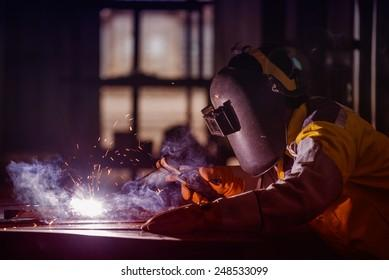gloves: (140, 190, 264, 232), (168, 164, 246, 199)
